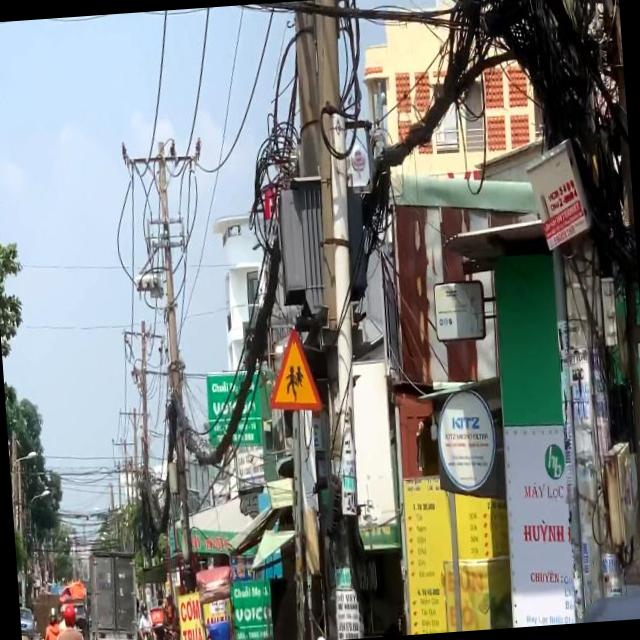W-225: (263, 326, 322, 416)
